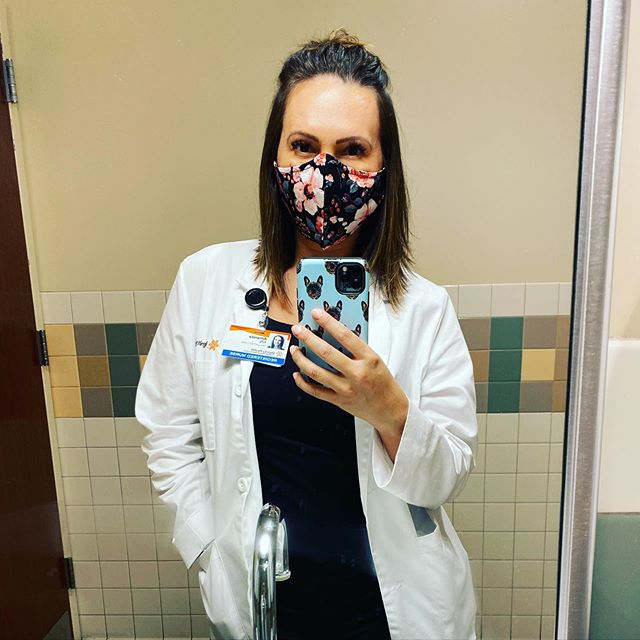homemade: (268, 159, 386, 254)
